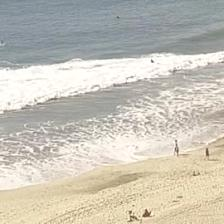surfer: (150, 59, 160, 64), (1, 40, 4, 44), (116, 16, 120, 19)
